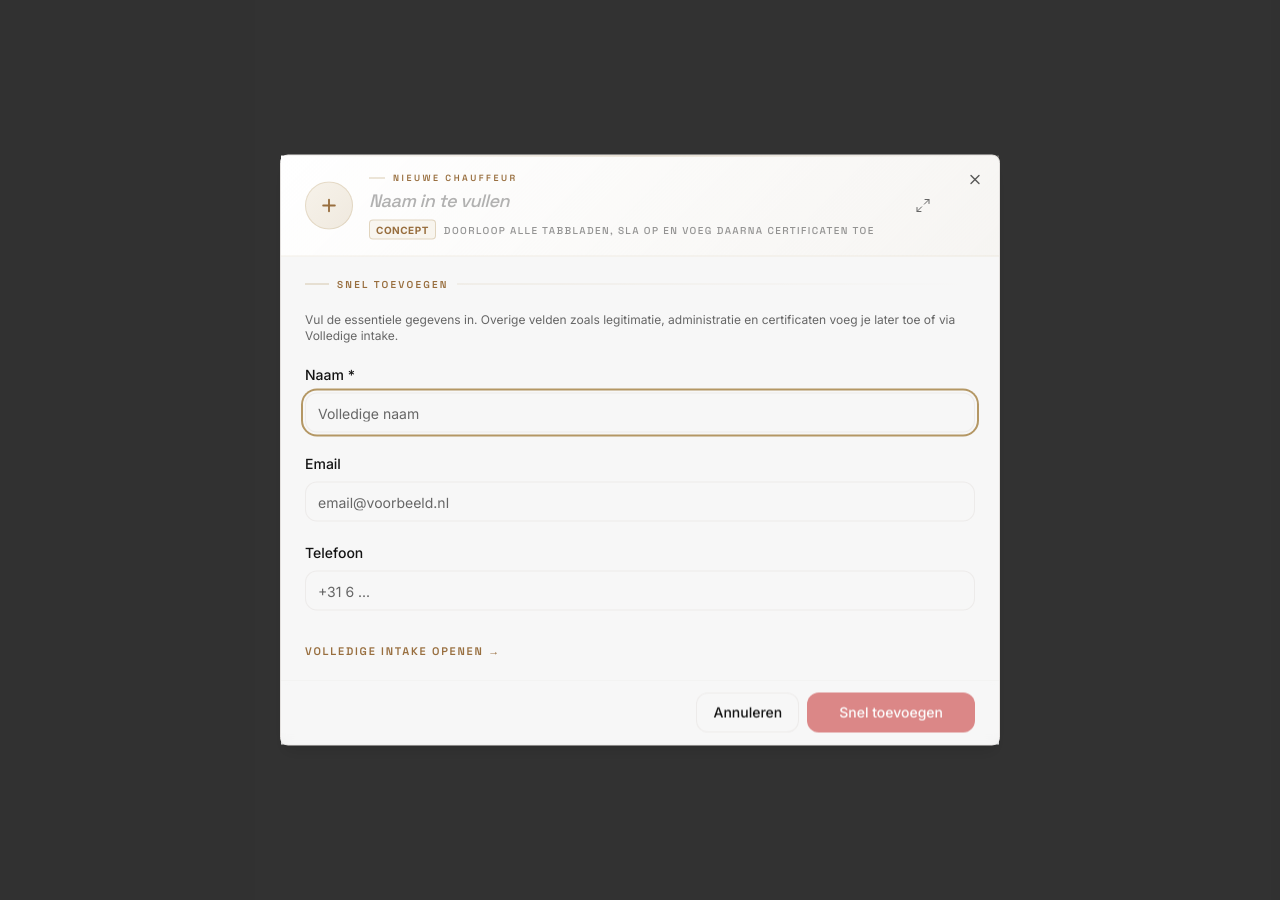
NewDriverDialog › shows full intake tabs after opening full intake
Click the button "Volledige intake openen →".
click(403, 651)  # box [305, 642, 501, 659]
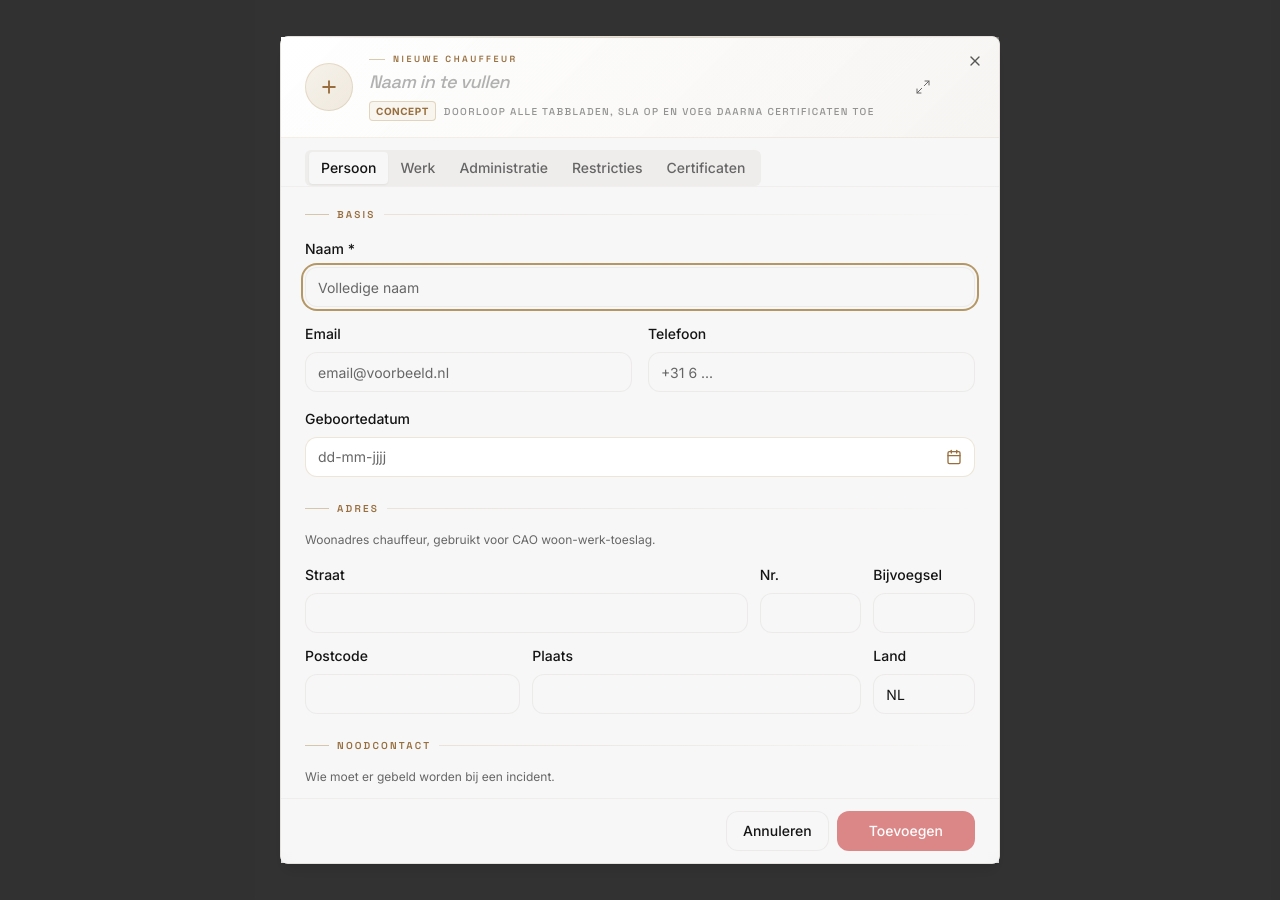
expect the tab "Administratie" is shown: met, box [447, 152, 560, 184]
expect the tab "Persoon" is shown: met, box [309, 152, 388, 184]
expect the tab "Werk" is shown: met, box [388, 152, 447, 184]
